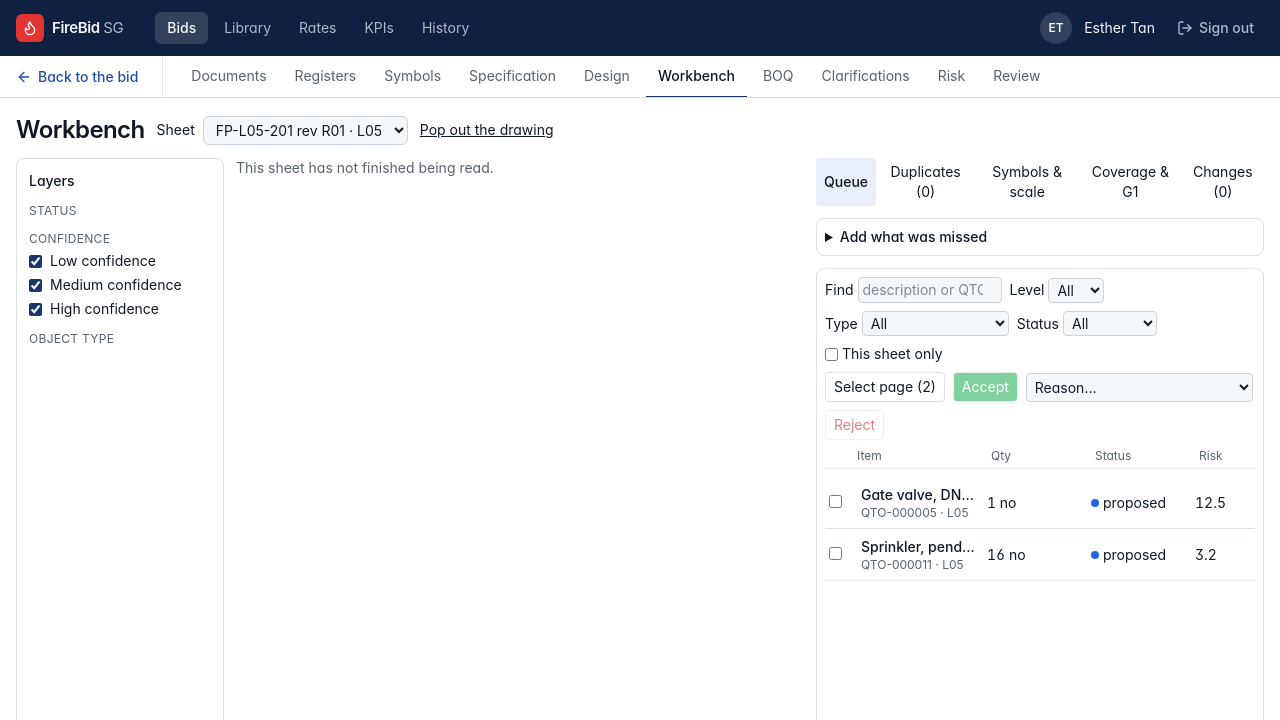
Test case: the workbench › lets only a senior estimator approve G1 once nothing blocks it
Click the button "Coverage & G1" at (1130, 182), box [1083, 158, 1178, 206]
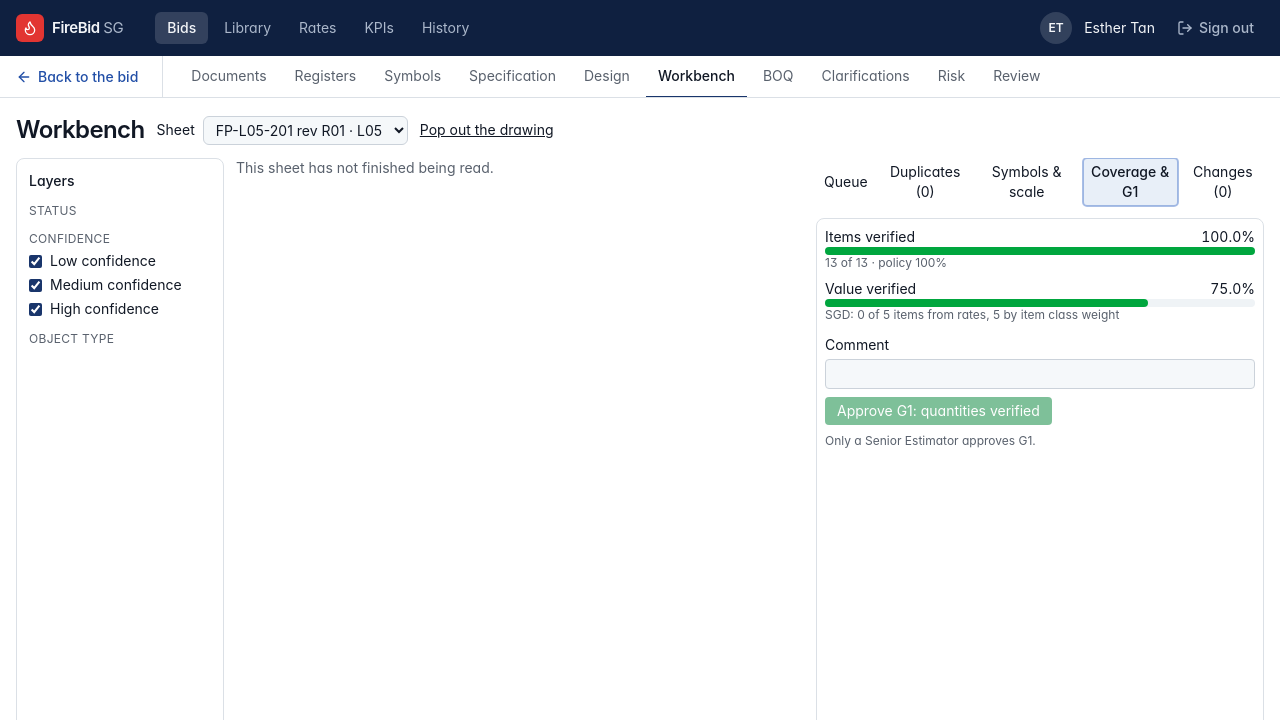
Now the text "Only a Senior Estimator approves G1." is shown, box [825, 433, 1036, 448]
Now the button "Approve G1: quantities verified" is disabled, box [825, 397, 1052, 425]
